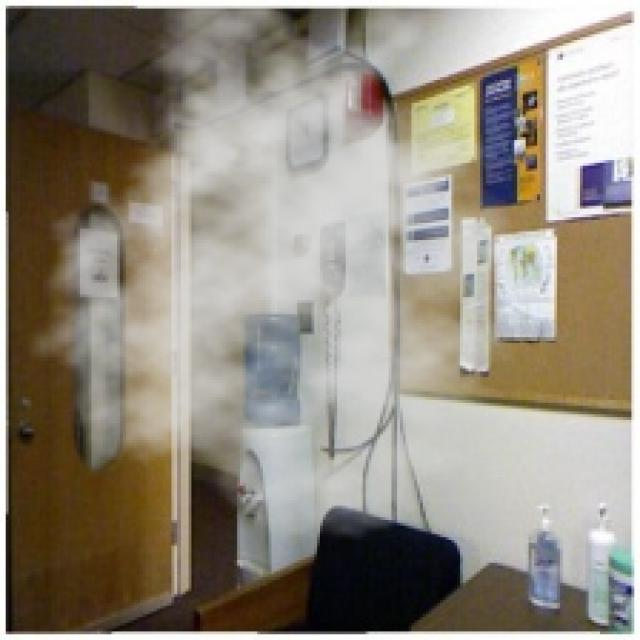smoke: (26, 9, 574, 540)
